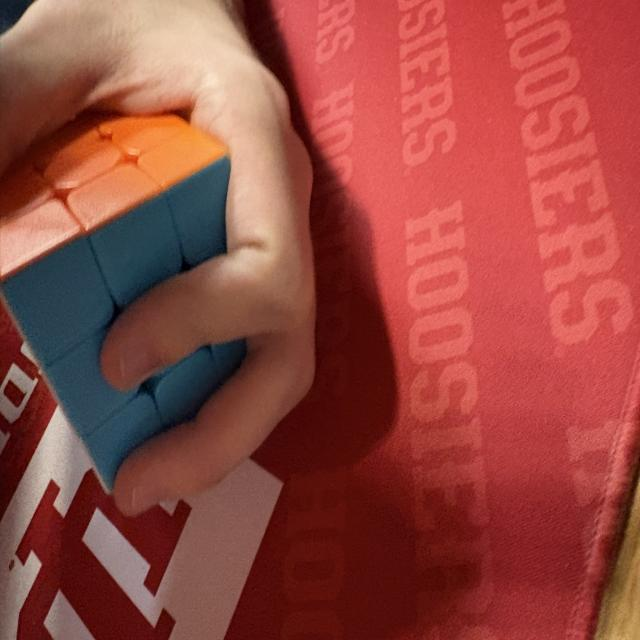Rubiks Cube: (0, 108, 246, 497)
